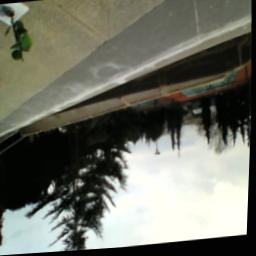herb: (4, 18, 35, 65)
